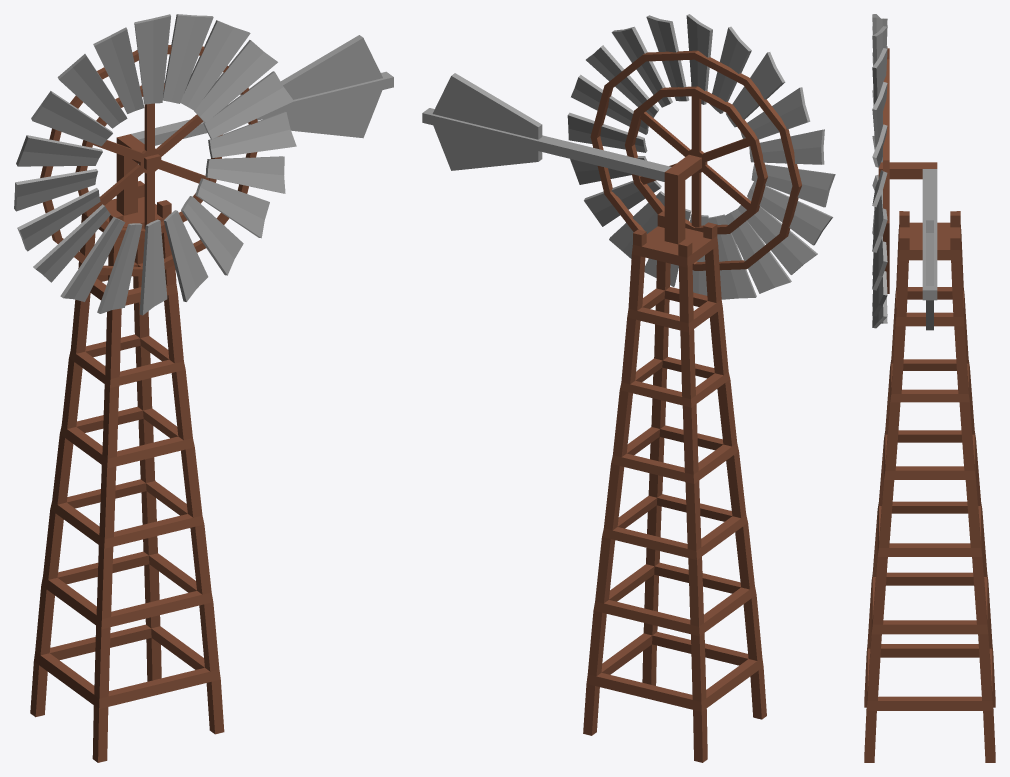
Rendered from windmill.glb.
3 renders of one model, left to right at view 1: azimuth 30°, elevation 25°; view 2: azimuth 150°, elevation 25°; view 3: azimuth 270°, elevation 25°, orthographic. The views are drawn at different scales.
Parts seen in each view (by area): view 1: Windmill_Cube.020; view 2: Windmill_Cube.020; view 3: Windmill_Cube.020.
Boxes of the visible parts, x1,y1,x2,y2 form: Windmill_Cube.020: (14,14,393,762); Windmill_Cube.020: (422,14,835,762); Windmill_Cube.020: (864,14,995,762).
Size of the model in its own units: 6.51 by 11.2 by 1.9.
